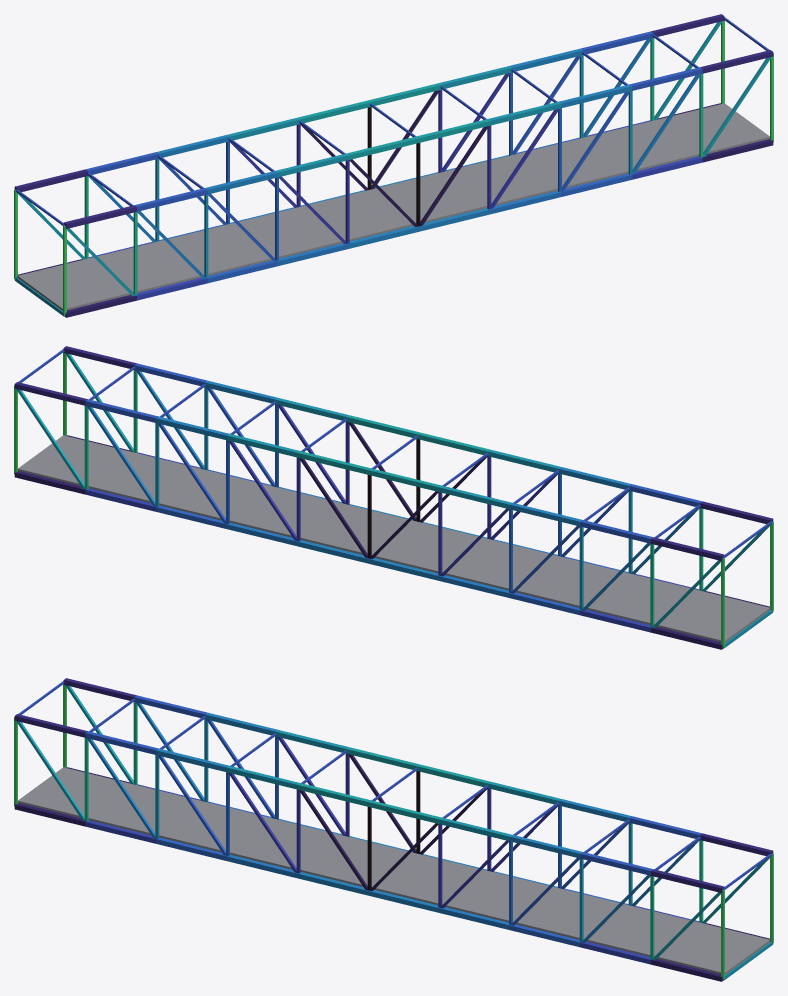
Rendered from 25_3_10_HEA200.glb.
The picture shows the model from 3 angles, top to bottom: view 1: azimuth 30°, elevation 25°; view 2: azimuth 150°, elevation 25°; view 3: azimuth 330°, elevation 25°; orthographic projection.
Size of the model in its own units: 25.09 by 3.16 by 3.16.
